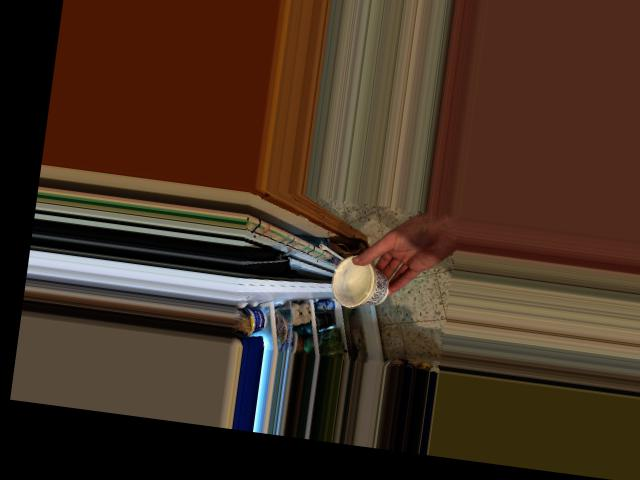cotage: (331, 259, 391, 311)
